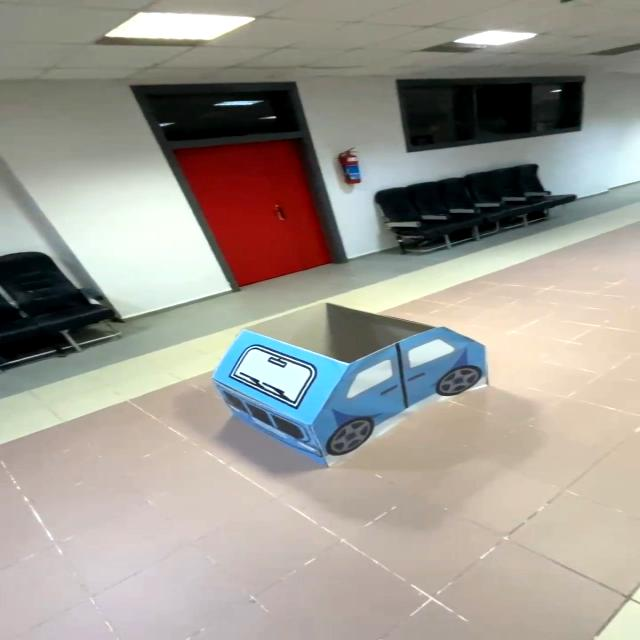blue_car: (166, 302, 524, 463)
